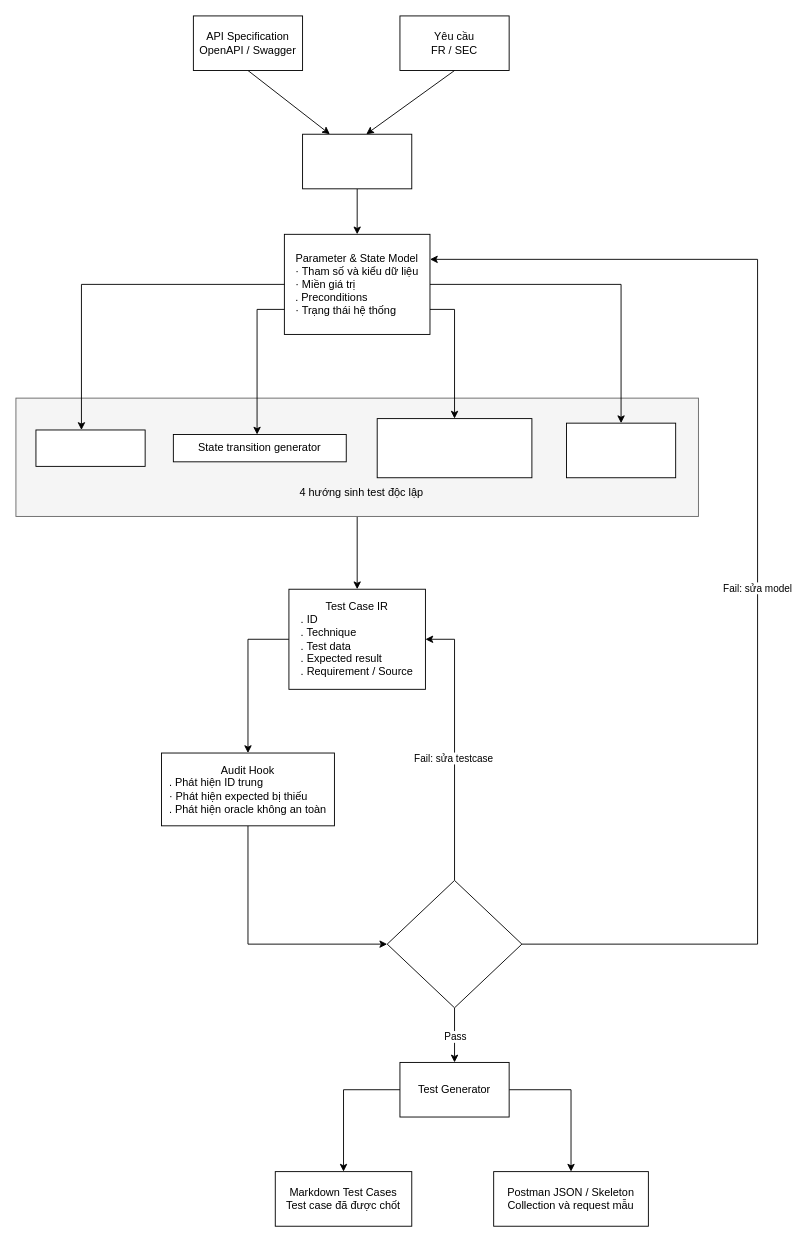
Image size: 807x1242. Some labels were removed from this diagram. The shapes that lost their labels are listed below. From the top down, each one's centre as x and y in pixels, then its label:
At point 357,161: "Parser Đọc và chuẩn hóa mô tả endpoint".
At point 90,447: "EP/BVA Generator".
At point 454,448: "Security Generator Authentication / Authorization Injection / Abuse cases".
At point 621,450: "Schema validation generator".
At point 454,944: "Human Review Gate Đã phê duyệt?".
